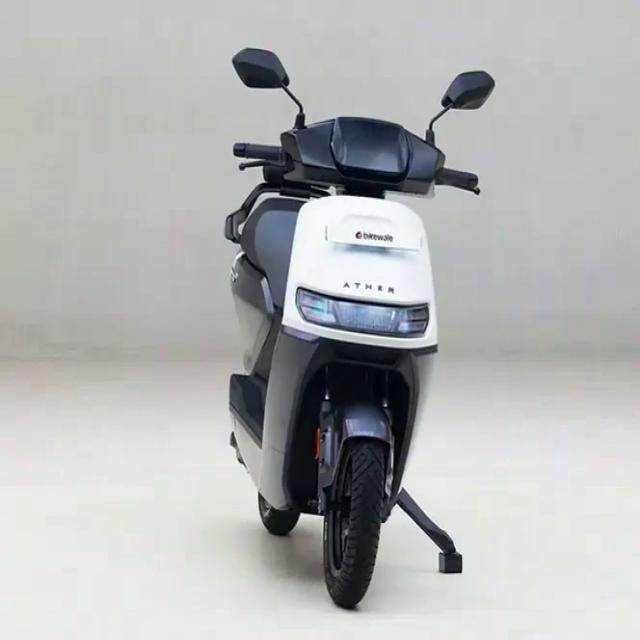objects: (185, 35, 502, 610)
